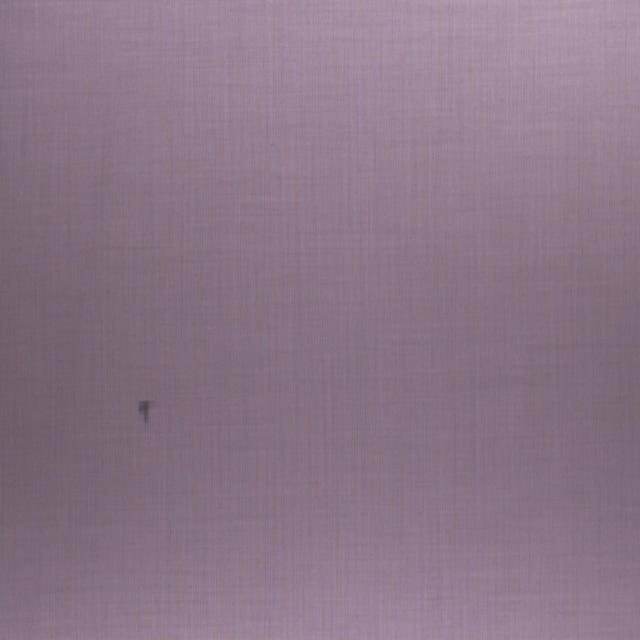dirty: (139, 401, 157, 424)
